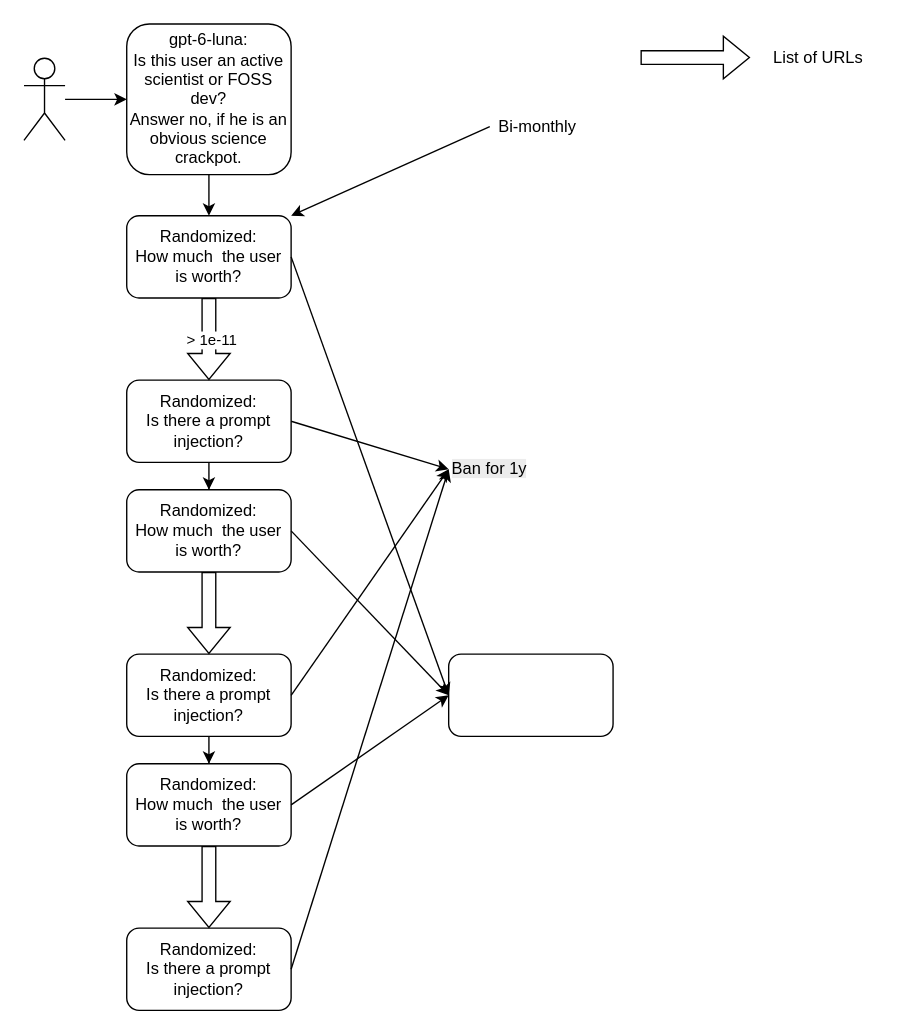
Some shapes in this 897 by 1034 pixel diagram are drawn without their labels. Here are the shapes that lost their labels. From the top down, the centre of each, then its label:
point 44,98: Actor
point 530,694: Salary = the median
